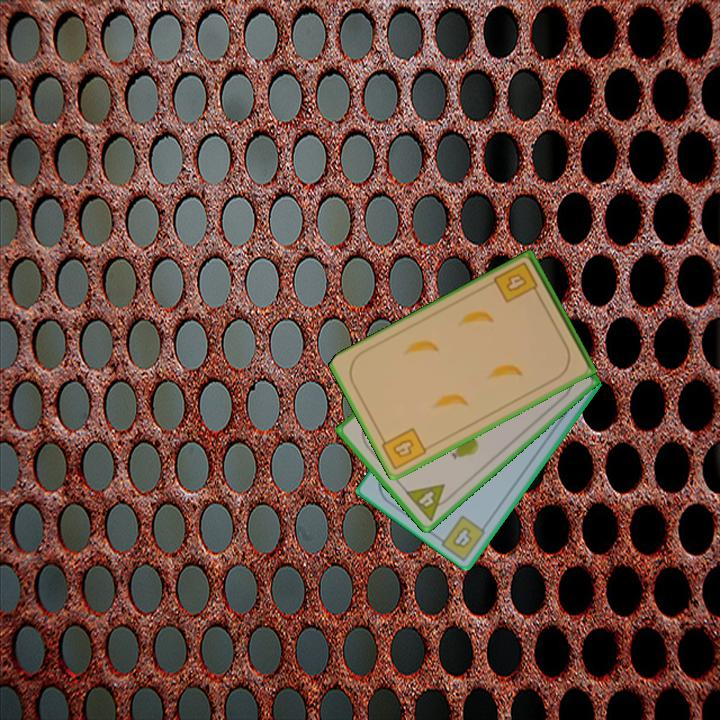4b: (376, 424, 430, 472), (491, 258, 543, 306), (449, 523, 475, 552)
4p: (402, 480, 456, 524)
